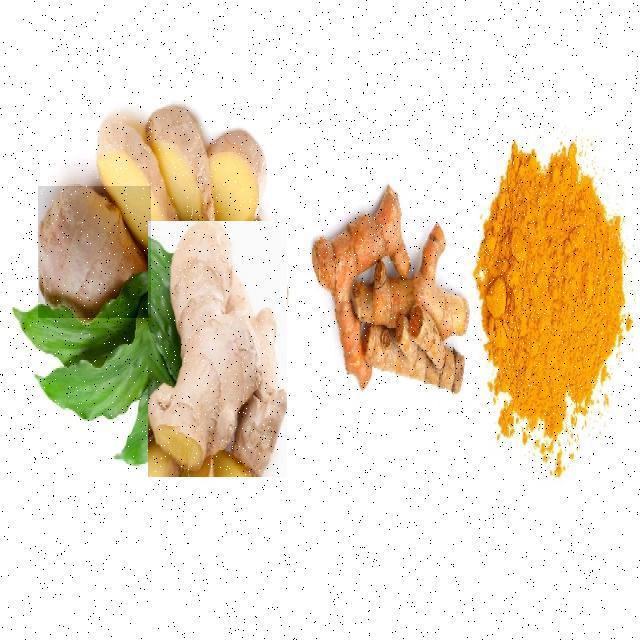ginger: (147, 220, 286, 476), (37, 185, 150, 317)
